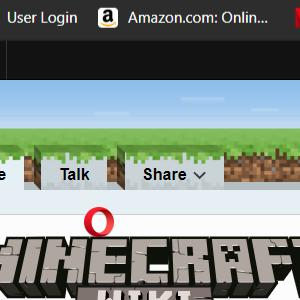opera: (84, 206, 114, 237)
